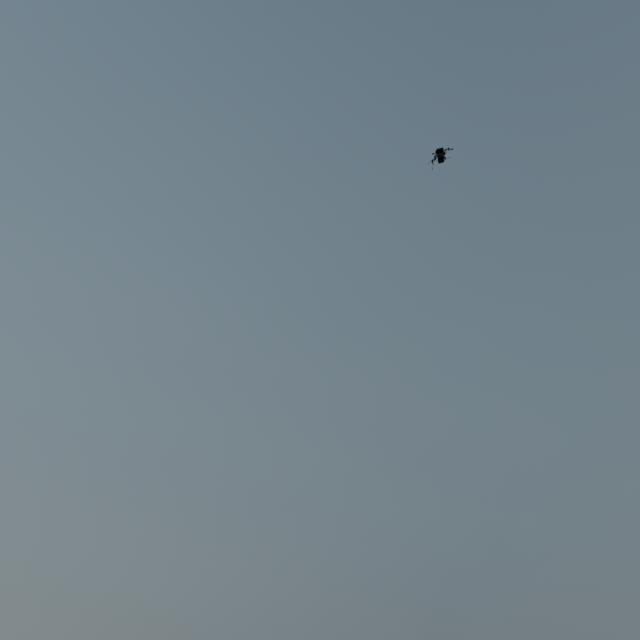drone: (428, 148, 453, 170)
